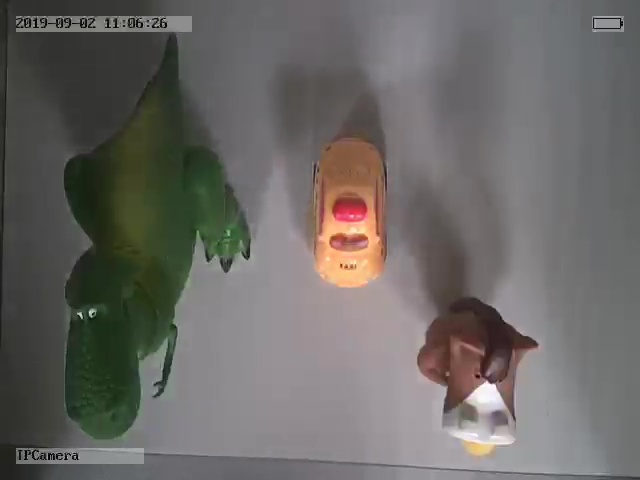car: (310, 133, 389, 288)
horse: (417, 296, 539, 459)
rex: (62, 49, 253, 441)
